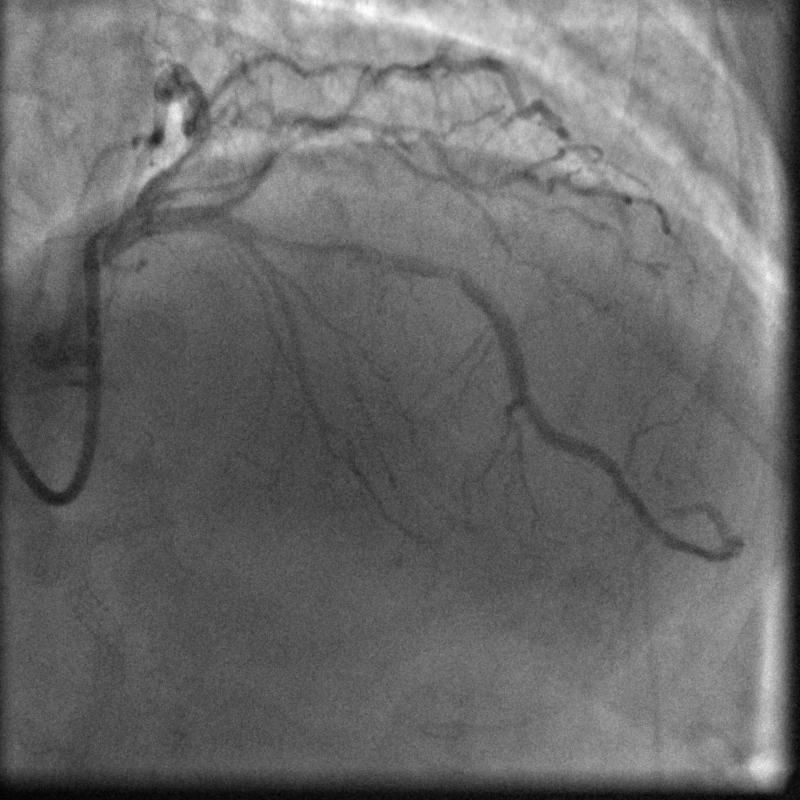Stenosis: (266, 222, 332, 256)
